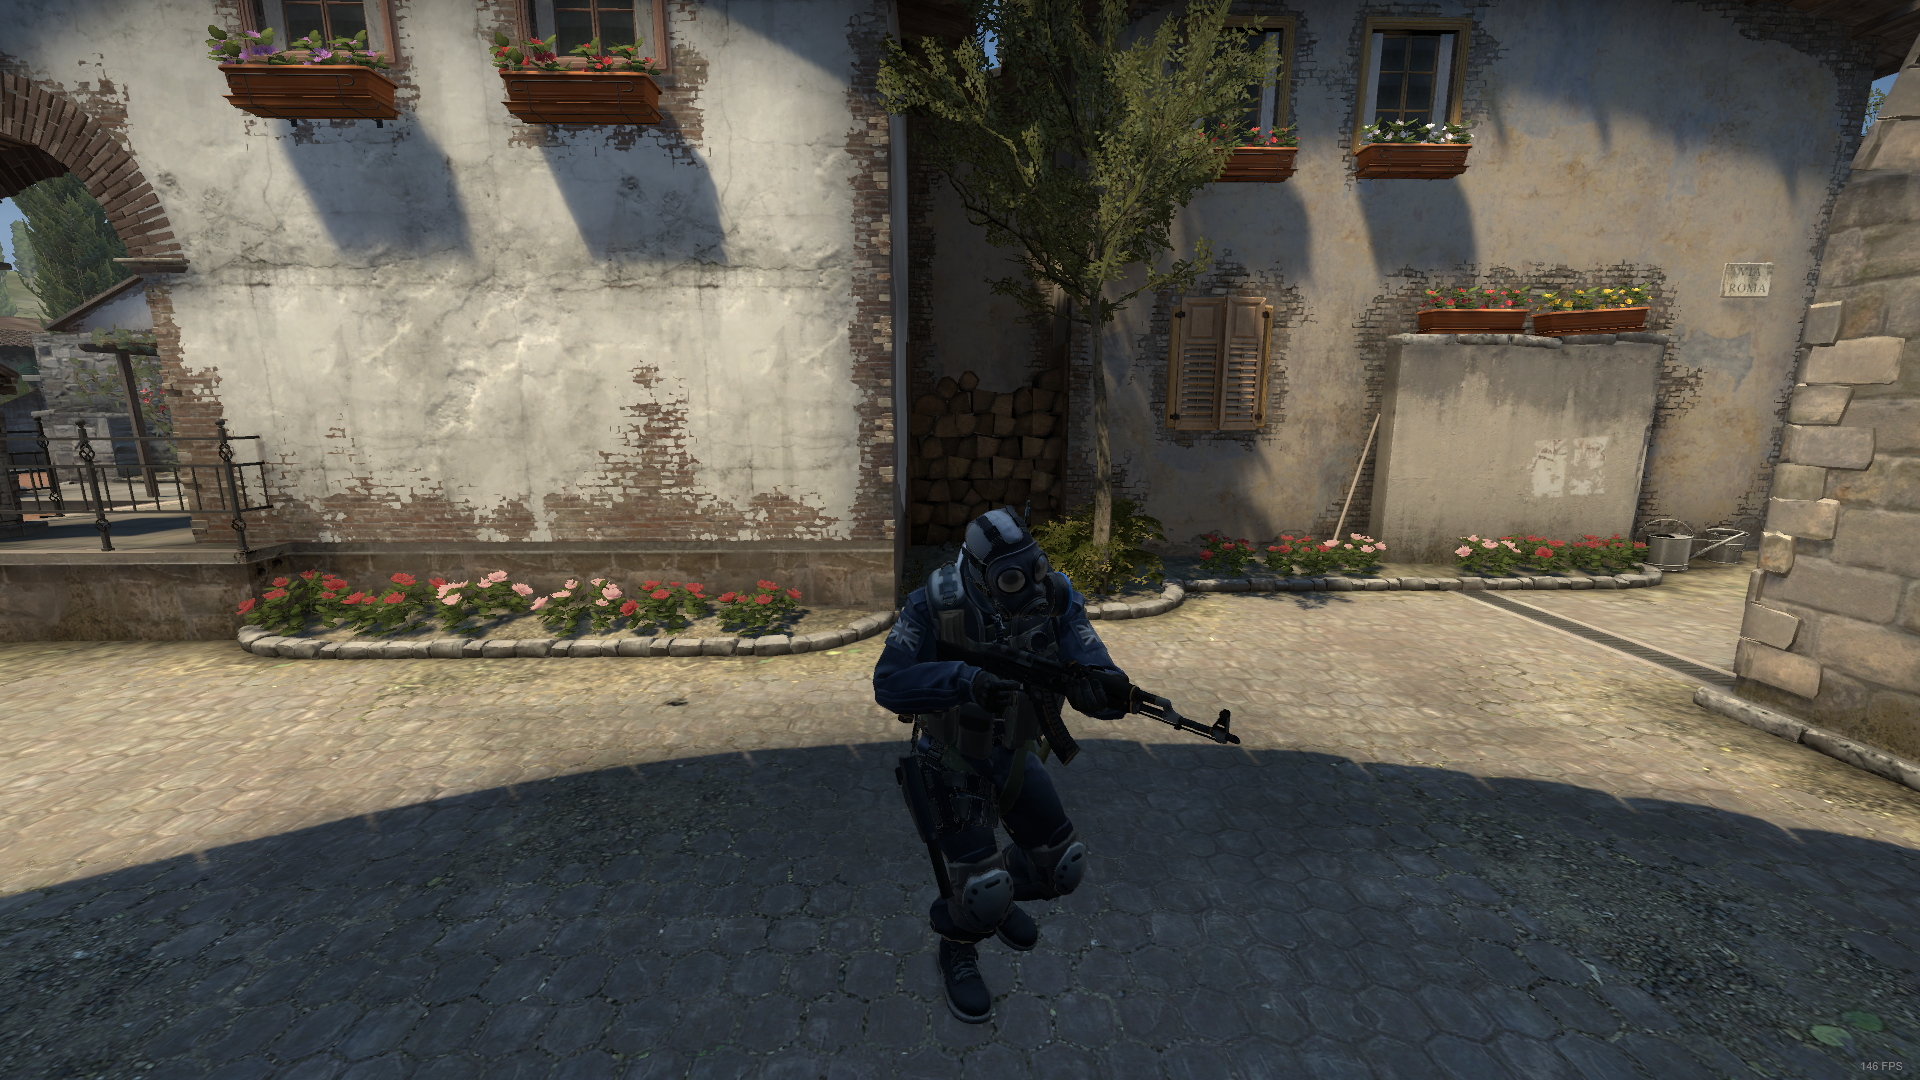ct: (839, 502, 1143, 1025)
